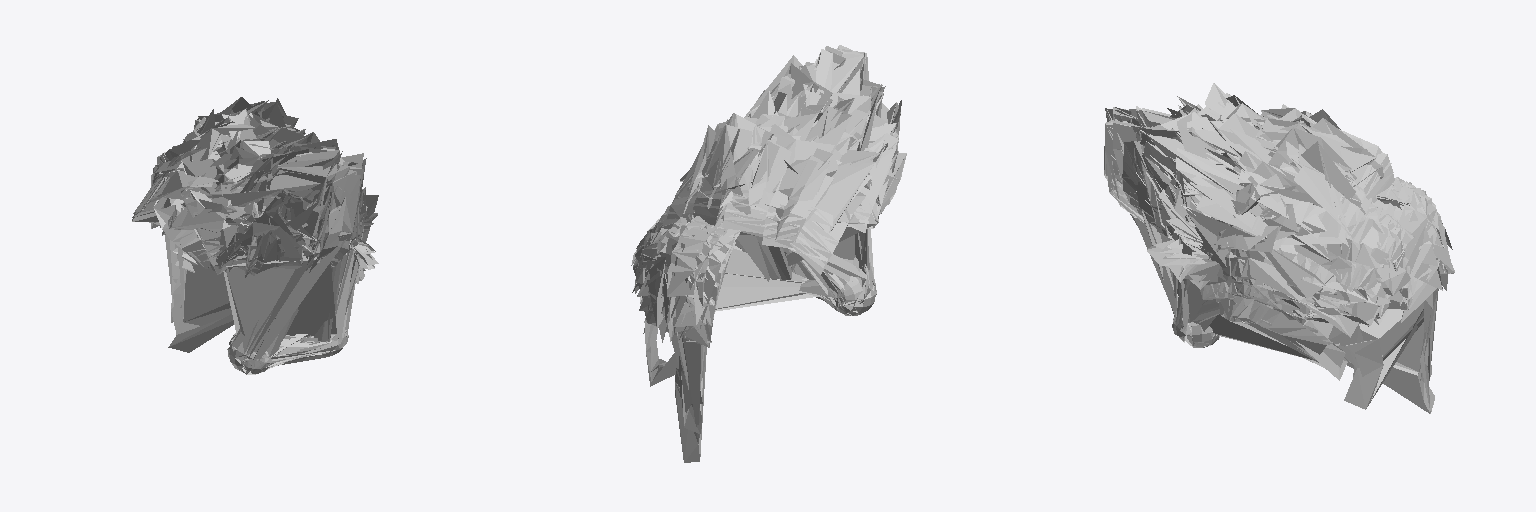
The model's file is mmm.obj.
The picture shows the model from 3 angles: view 1: azimuth 30°, elevation 25°; view 2: azimuth 150°, elevation 25°; view 3: azimuth 270°, elevation 25°; orthographic projection.
Parts seen in each view (by area): view 1: Model001_24_base1nPart!_1_0_0, Model001_24_head_1_0_0, Model001_24_base!_1_0_0, Model001_4_eye_0.3_0_0; view 2: Model001_24_base1nPart!_1_0_0, Model001_24_head_1_0_0, Model001_24_base!_1_0_0; view 3: Model001_24_base1nPart!_1_0_0, Model001_24_head_1_0_0, Model001_24_base!_1_0_0.
Part boxes in pixels (left/top/right/bottom): Model001_24_base1nPart!_1_0_0: left=132, top=97, right=378, bottom=374; Model001_24_head_1_0_0: left=149, top=101, right=378, bottom=374; Model001_24_base!_1_0_0: left=223, top=117, right=359, bottom=374; Model001_4_eye_0.3_0_0: left=230, top=333, right=346, bottom=374; Model001_24_base1nPart!_1_0_0: left=631, top=45, right=906, bottom=462; Model001_24_head_1_0_0: left=664, top=51, right=906, bottom=312; Model001_24_base!_1_0_0: left=770, top=134, right=876, bottom=315; Model001_24_base1nPart!_1_0_0: left=1104, top=83, right=1454, bottom=413; Model001_24_head_1_0_0: left=1105, top=104, right=1394, bottom=347; Model001_24_base!_1_0_0: left=1105, top=116, right=1306, bottom=347.
Size of the model in its own units: 0.1779 by 0.2692 by 0.2778.